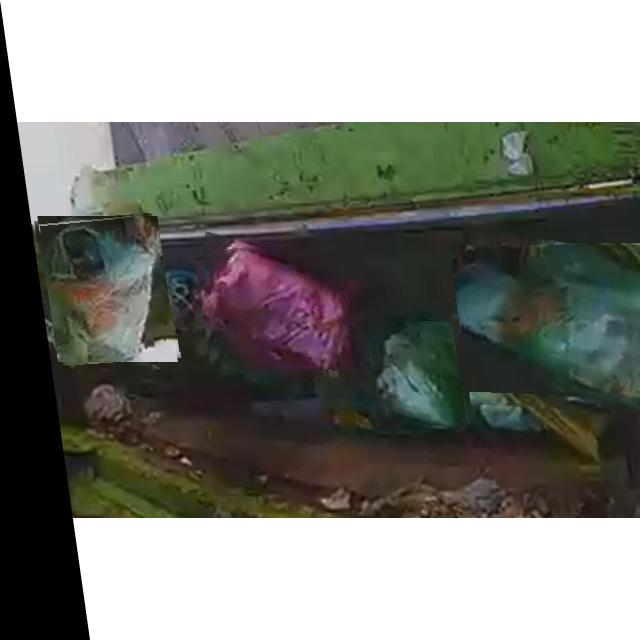general_trashbag: (447, 245, 640, 413), (38, 216, 148, 362), (368, 321, 447, 428)
other_trashbag: (192, 248, 335, 368)
